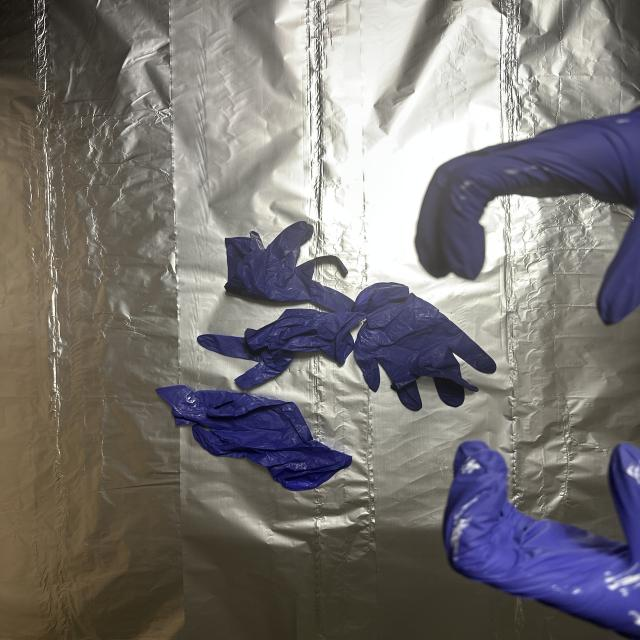gloves_contaminated: (415, 108, 640, 325), (443, 441, 640, 640)
